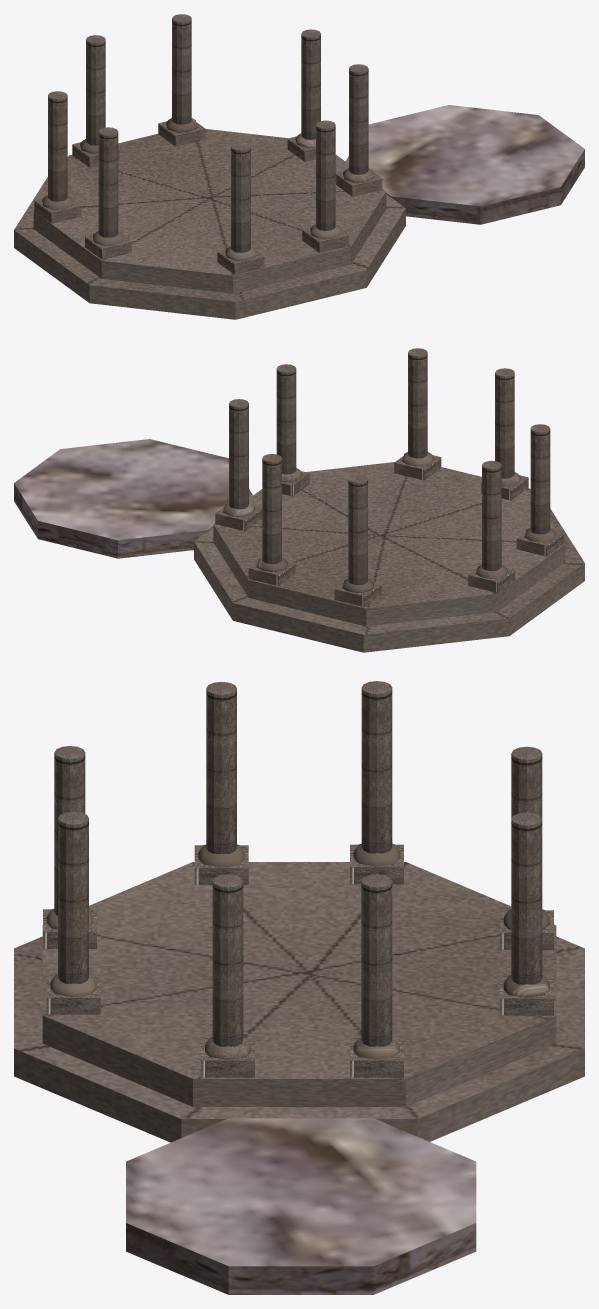
Rendered from ResearchFacility_stage1.fbx.
3 renders of one model, top to bottom at view 1: azimuth 30°, elevation 25°; view 2: azimuth 150°, elevation 25°; view 3: azimuth 270°, elevation 25°, orthographic. The views are drawn at different scales.
Parts seen in each view (by area): view 1: polySurface88; view 2: polySurface88; view 3: polySurface88.
Part boxes in pixels (x1=…): polySurface88: x1=14, y1=14, x2=584, y2=319; polySurface88: x1=14, y1=348, x2=584, y2=652; polySurface88: x1=14, y1=681, x2=584, y2=1294.
Size of the model in its own units: 85.84 by 24.84 by 53.17.
3 materials, 3 textured.
